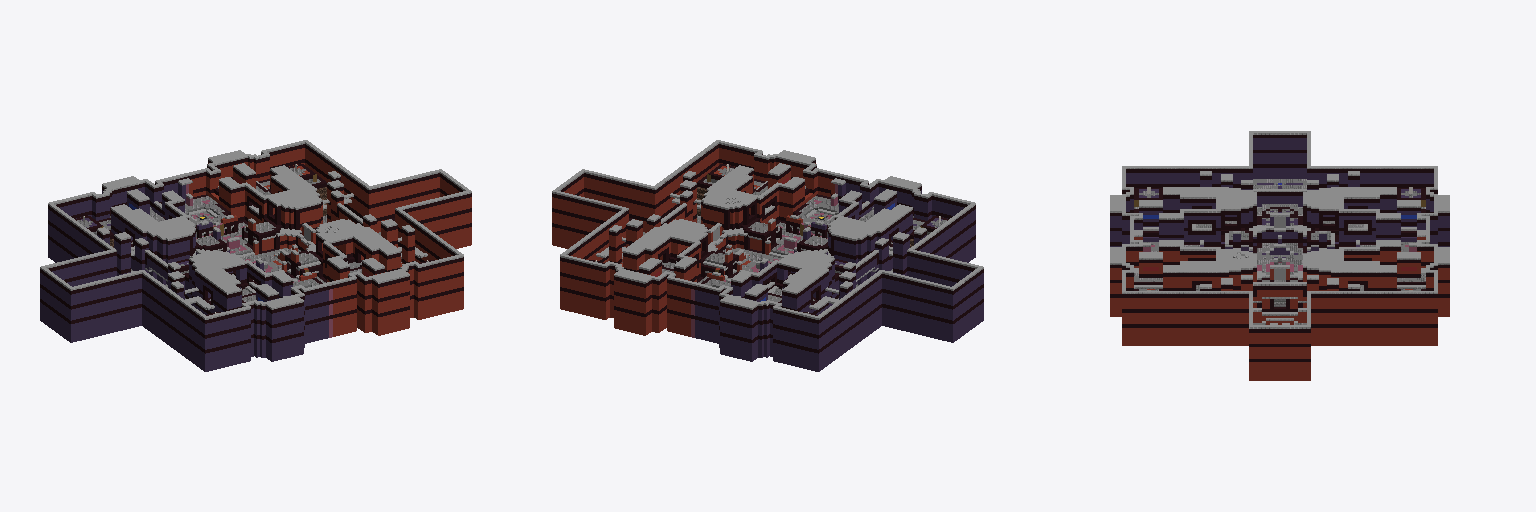
3 views of the same model, side by side, from view 1: azimuth 30°, elevation 25°; view 2: azimuth 150°, elevation 25°; view 3: azimuth 270°, elevation 25° (orthographic).
Size of the model in its own units: 113 by 14.5 by 83.
Materials: 22 (5 with a texture image).